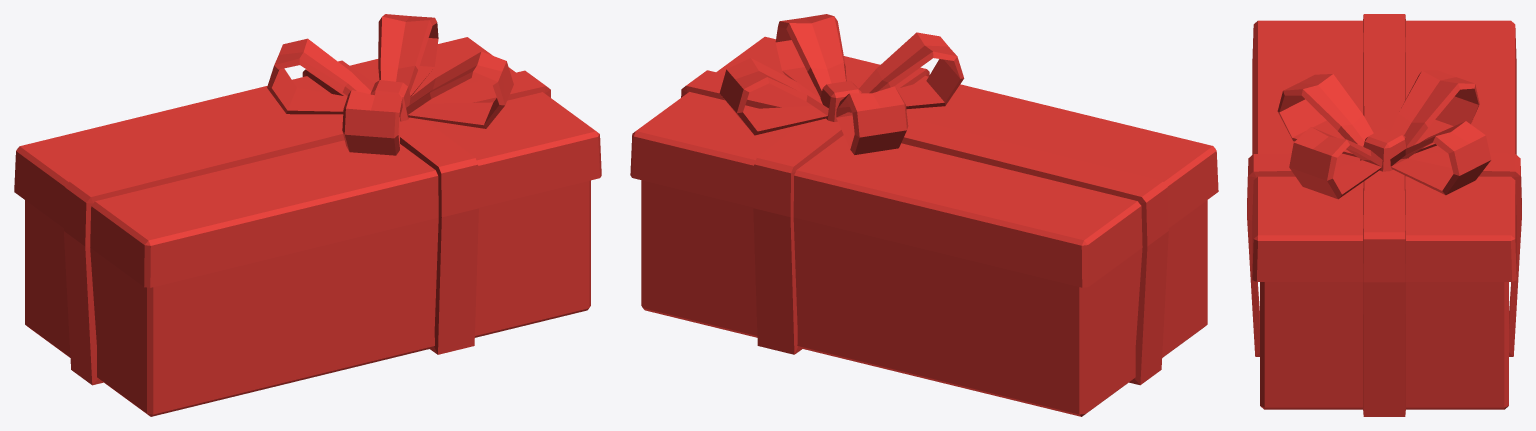
Rendered from SM_Gift_Christmas_Long_C.fbx.
The picture shows the model from 3 angles, left to right: view 1: azimuth 30°, elevation 25°; view 2: azimuth 150°, elevation 25°; view 3: azimuth 270°, elevation 25°; orthographic projection.
Visible parts, largest first — view 1: gift-christmas-long-c; view 2: gift-christmas-long-c; view 3: gift-christmas-long-c.
Part boxes in pixels (left/top/right/bottom): gift-christmas-long-c: left=14, top=14, right=601, bottom=416; gift-christmas-long-c: left=630, top=14, right=1218, bottom=416; gift-christmas-long-c: left=1247, top=14, right=1521, bottom=416.
Bounding box in the file's own units: 0.6387 × 0.3259 × 0.3314.
